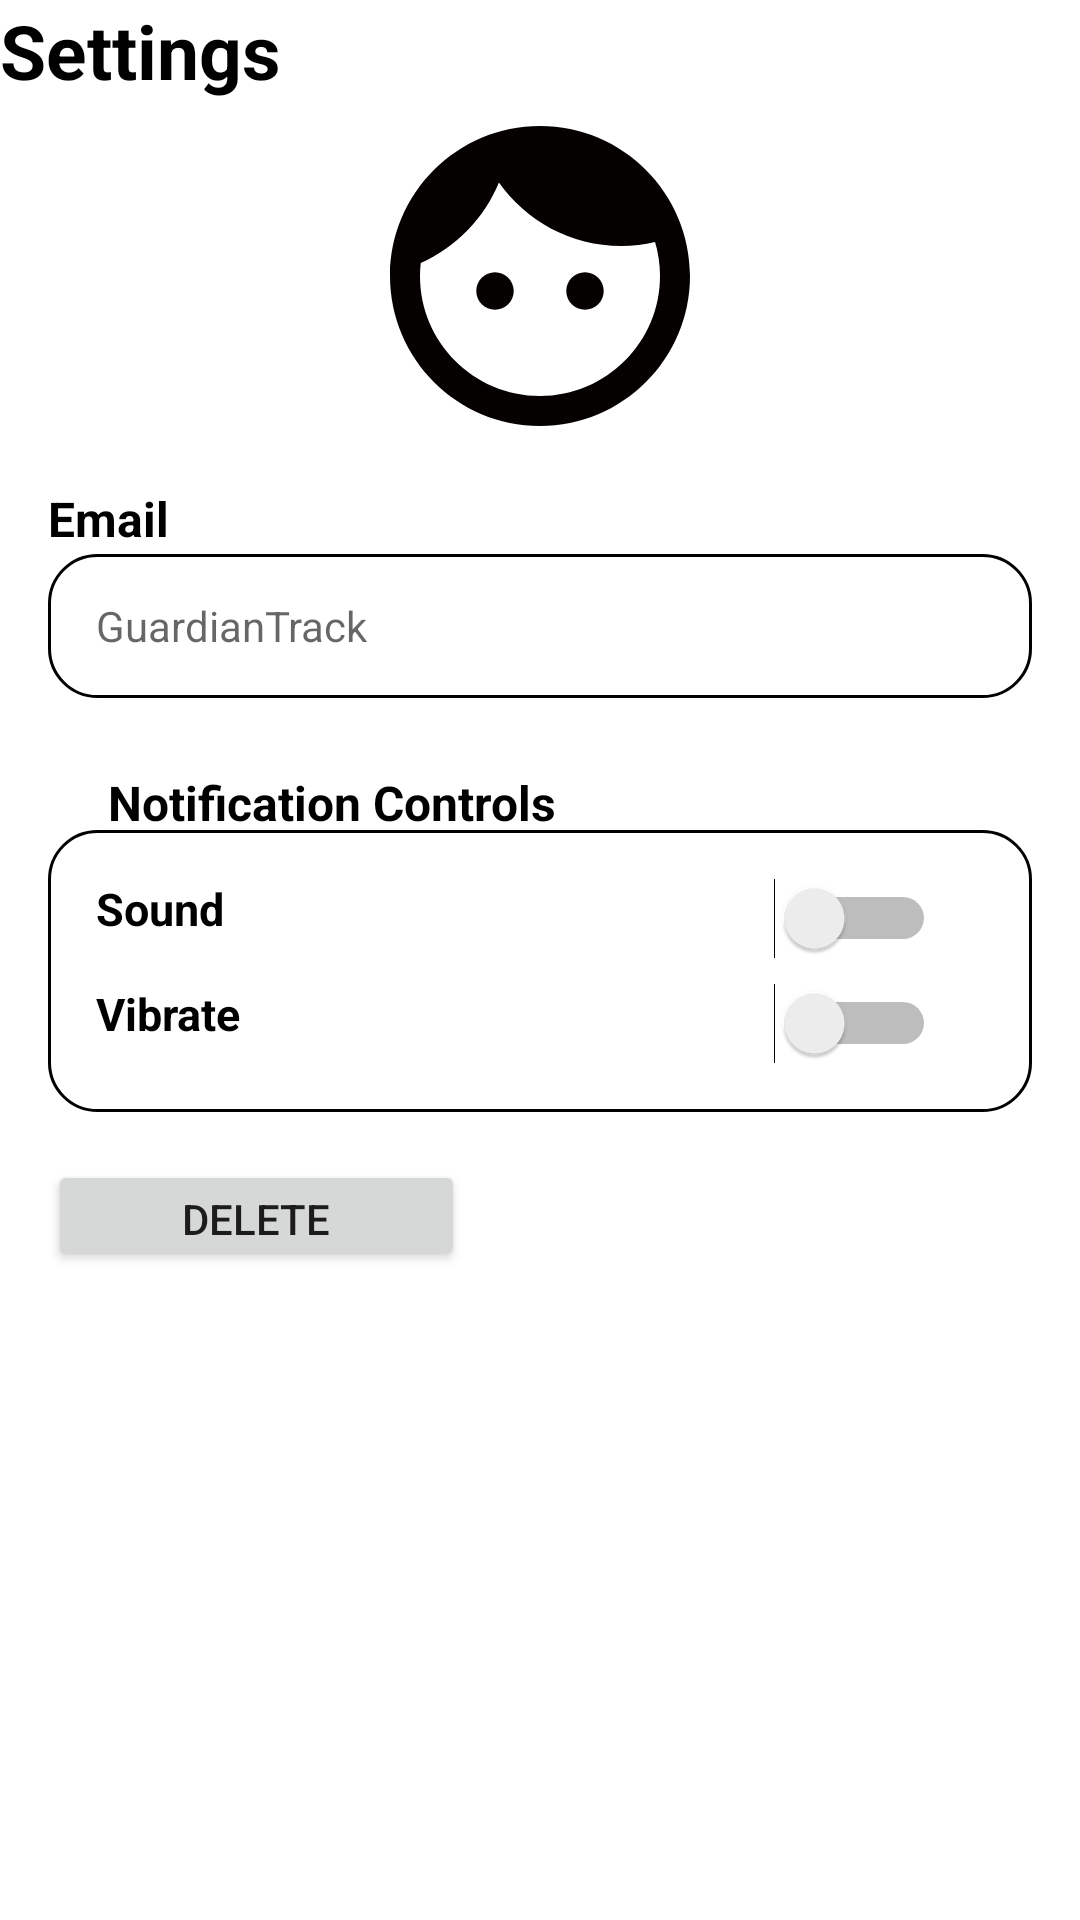

Locate icon controls on the screen. Image size 1080px x 1920px, boxes as (x1, y1, x2, y2).
face: (390, 126, 690, 426)
